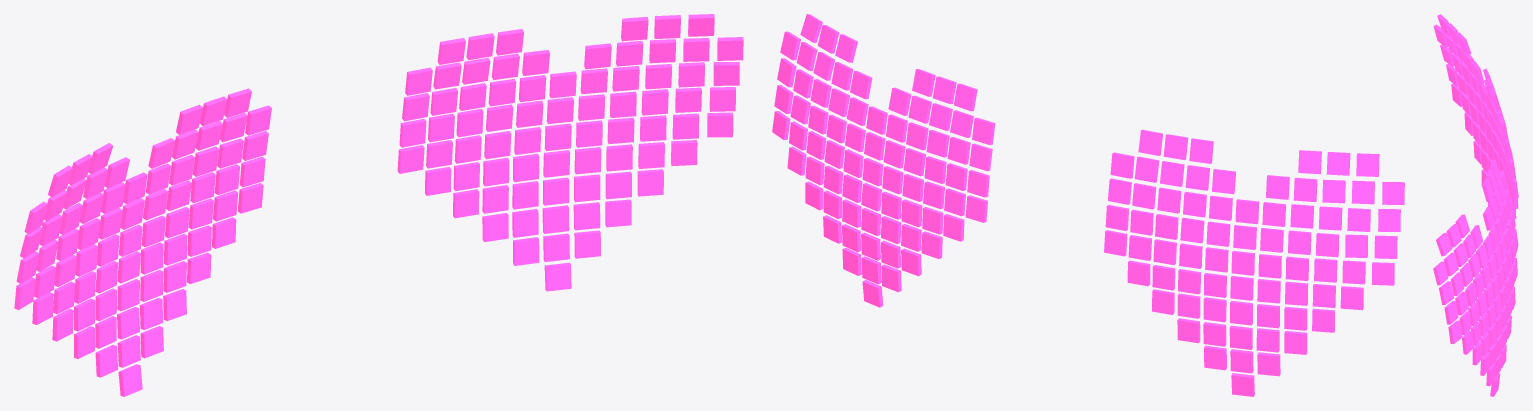
The model's file is chr_bunny01_expression_love_visual_top3d.glb.
3 renders of one model, left to right at view 1: azimuth 30°, elevation 25°; view 2: azimuth 150°, elevation 25°; view 3: azimuth 270°, elevation 25°, orthographic. The views are drawn at different scales.
Parts seen in each view (by area): view 1: ExpressionPixels; view 2: ExpressionPixels; view 3: ExpressionPixels.
Part boxes in pixels (x1=…): ExpressionPixels: x1=14, y1=14, x2=743, y2=396; ExpressionPixels: x1=772, y1=14, x2=1404, y2=396; ExpressionPixels: x1=1433, y1=14, x2=1518, y2=396.
Bounding box in the file's own units: 0.38 × 0.1396 × 0.0561.
